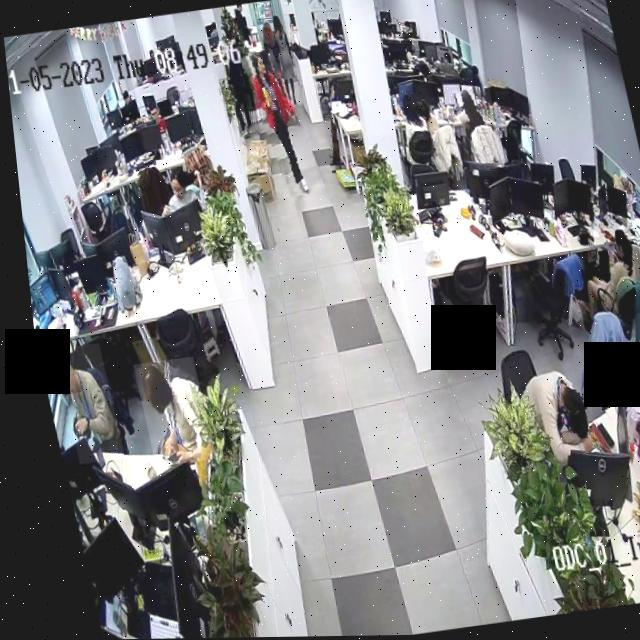person: (242, 46, 317, 199), (124, 356, 206, 467), (45, 343, 115, 464), (563, 229, 640, 322), (508, 368, 585, 461), (449, 86, 503, 173), (218, 37, 258, 138), (394, 93, 432, 162), (151, 167, 198, 216), (114, 88, 139, 122)
